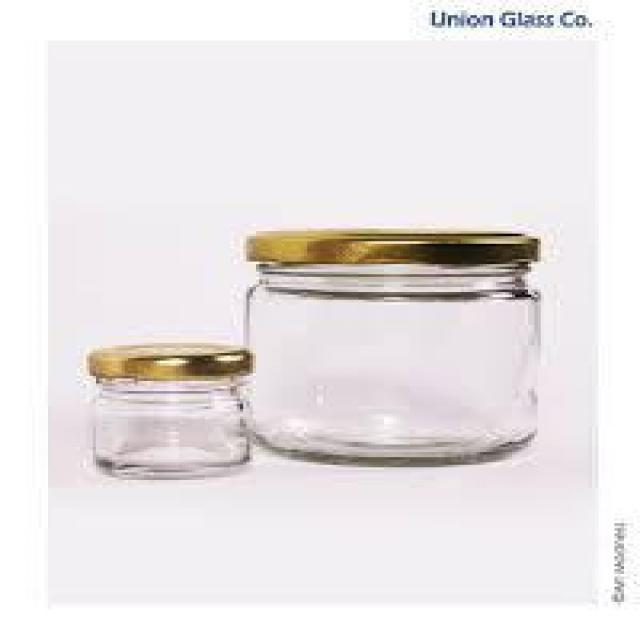glass: (83, 339, 259, 484)
